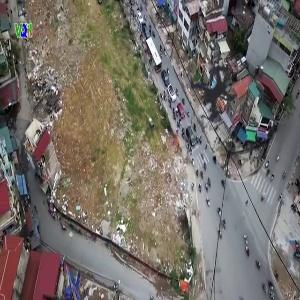drone: (131, 14, 292, 175)
